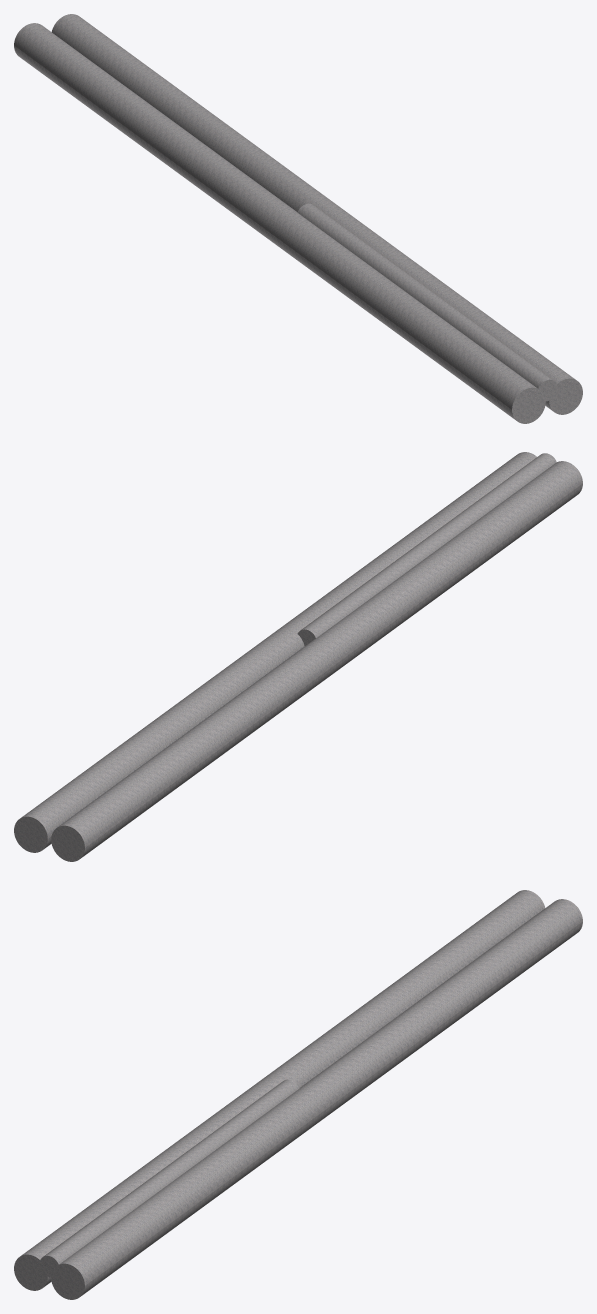
3 renders of one model, top to bottom at view 1: azimuth 30°, elevation 25°; view 2: azimuth 150°, elevation 25°; view 3: azimuth 330°, elevation 25°, orthographic.
Parts seen in each view (by area): view 1: 0_0_2_1_2_3_1_2_2; view 2: 0_0_2_1_2_3_1_2_2; view 3: 0_0_2_1_2_3_1_2_2.
Part boxes in pixels (box(x1,y1,x2,y2)): 0_0_2_1_2_3_1_2_2: box(14, 14, 582, 423); 0_0_2_1_2_3_1_2_2: box(14, 452, 582, 861); 0_0_2_1_2_3_1_2_2: box(14, 890, 582, 1299).
Size of the model in its own units: 2.1 by 1.1 by 25.53.
Materials: 3 (3 with a texture image).
